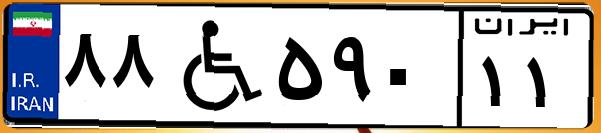0: (385, 28, 445, 110)
1: (475, 38, 525, 113), (525, 38, 570, 115)
5: (270, 28, 330, 110)
8: (57, 26, 110, 100), (110, 28, 158, 98)
9: (330, 28, 385, 110)
ژ (معلولین و جانبازان): (158, 12, 270, 120)
